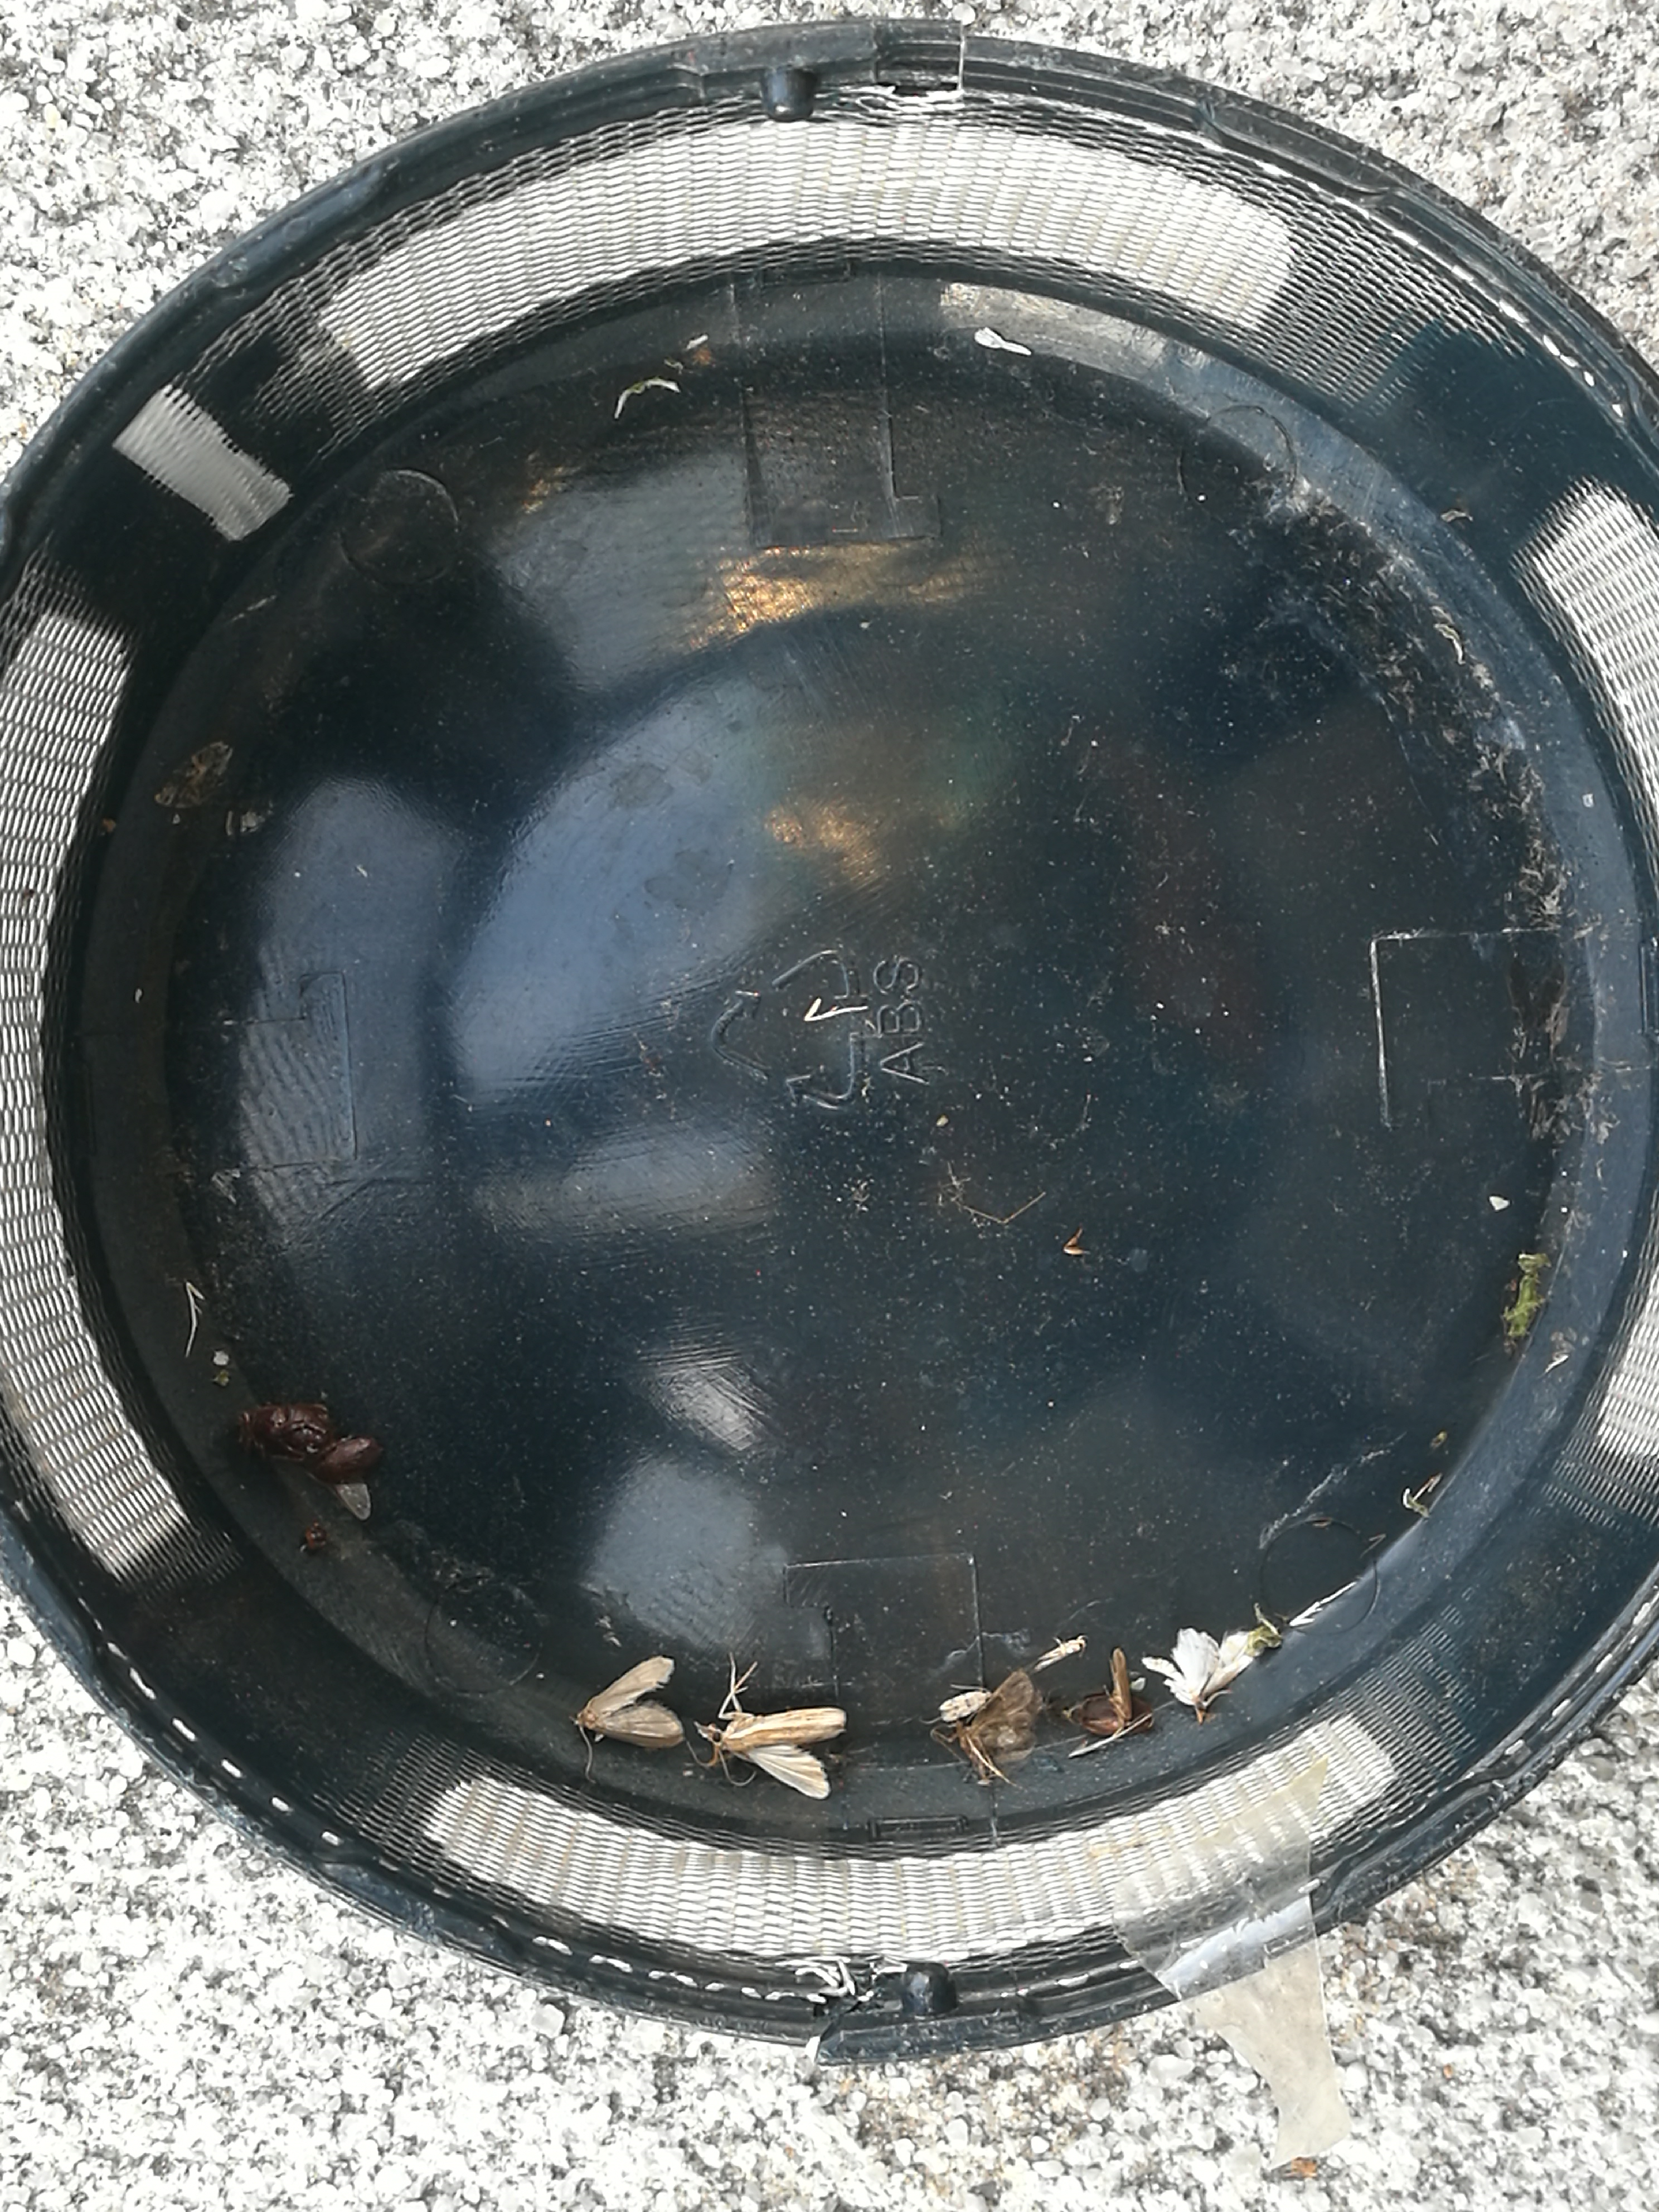mosquito: (939, 1689, 986, 1719), (1112, 1648, 1129, 1721)
moth: (695, 1707, 847, 1799), (1141, 1627, 1251, 1721), (580, 1658, 683, 1749), (955, 1670, 1035, 1777)
